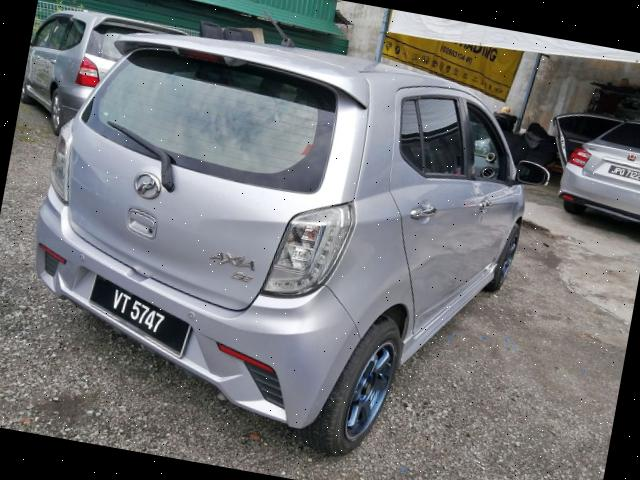License_Plate: (87, 273, 187, 345), (604, 162, 640, 189)
